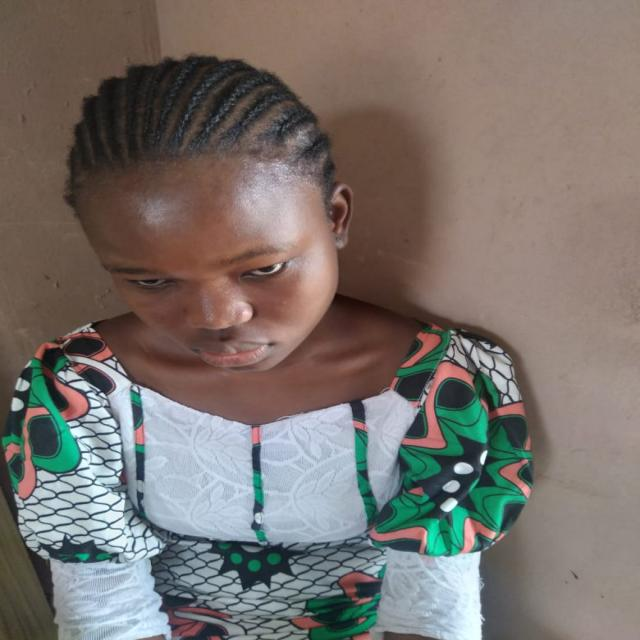sad: (57, 51, 359, 380)
